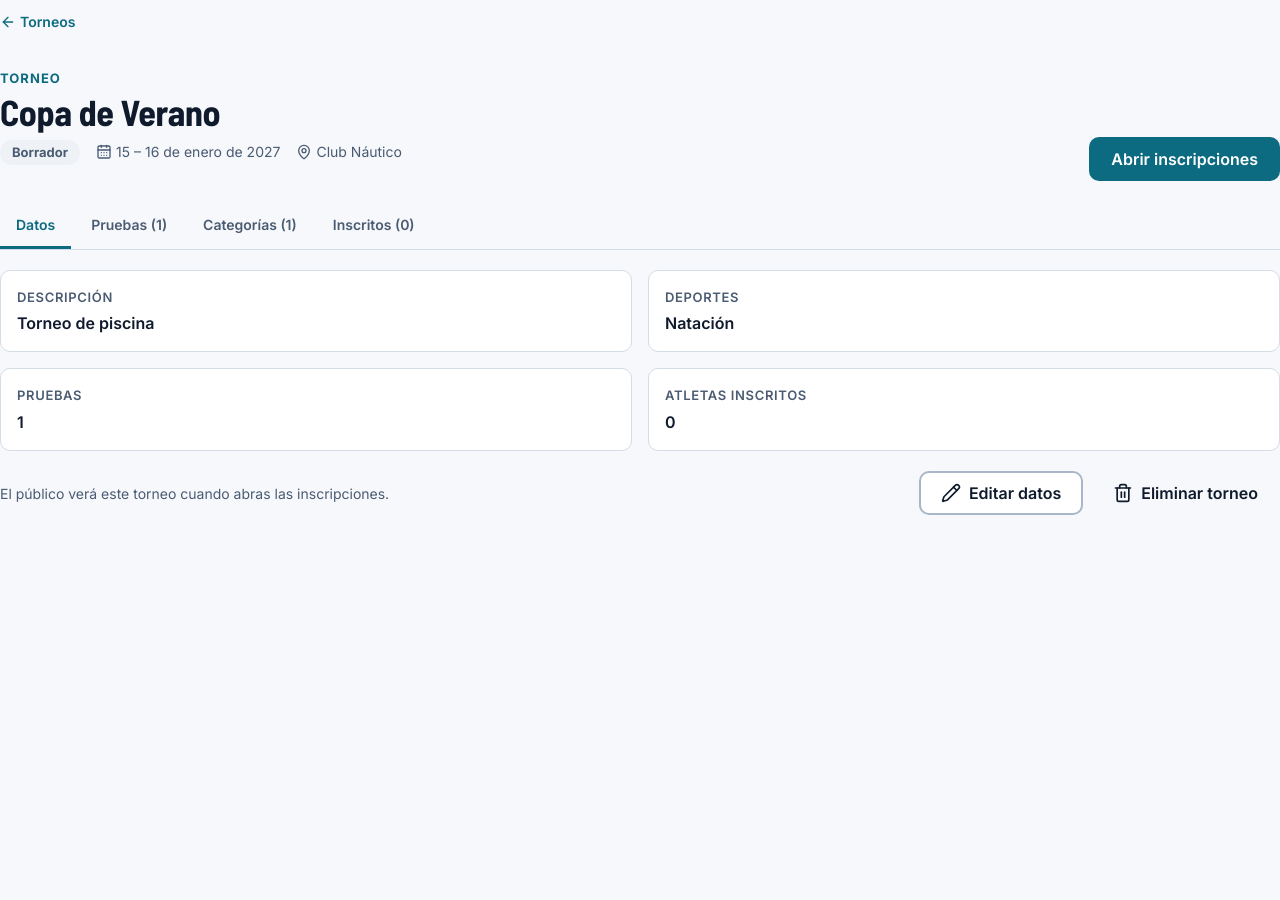
Scenario: TorneoDetallePage › muestra el error del servidor al crear una categoría que se cruza
Expected: the heading "Copa de Verano" is shown, 0,90 -> 220,133
Click the tab "Categorías (1)" at [250, 226], box 187,204 -> 313,248
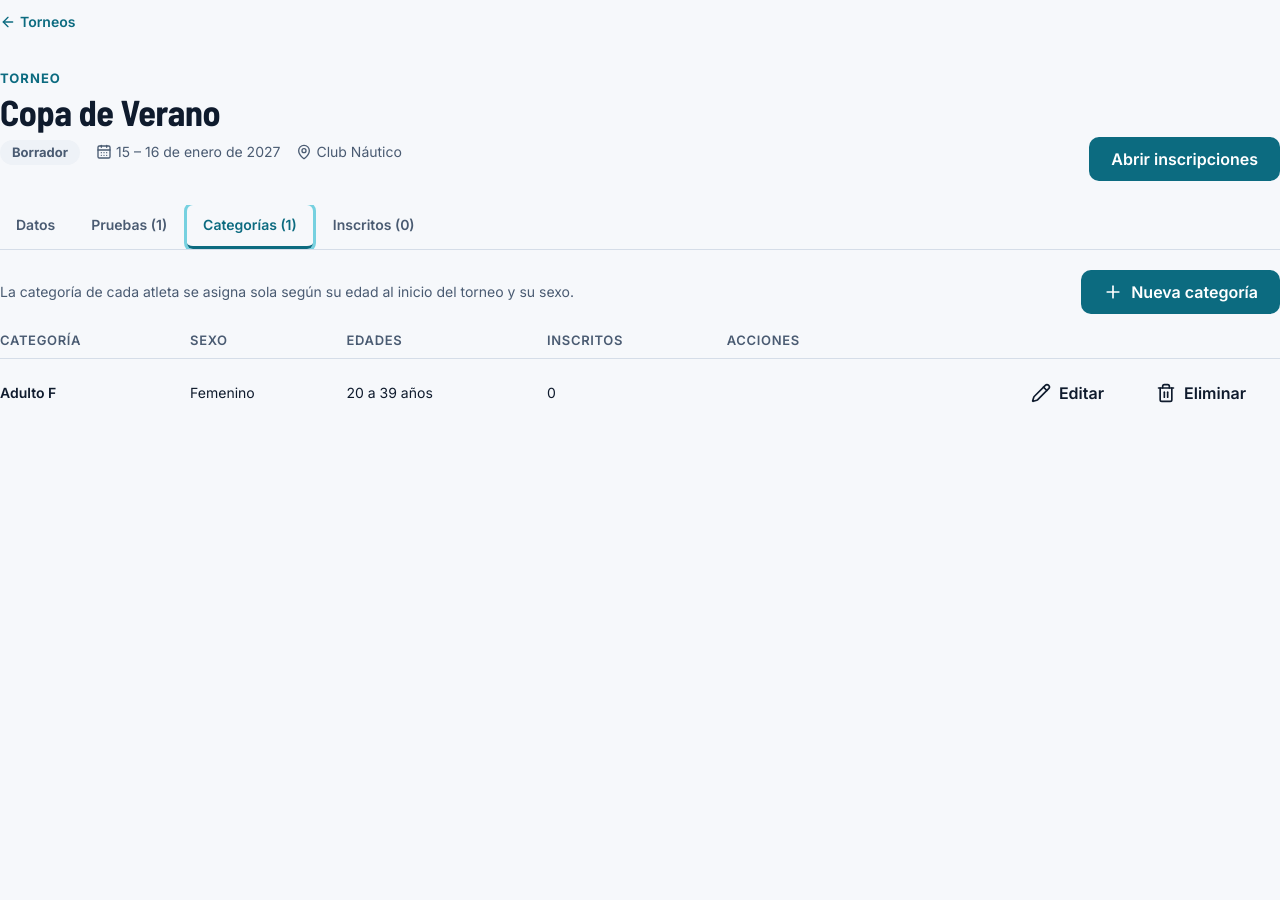
Click the button "Nueva categoría" at [1181, 292], box 1081,270 -> 1279,314
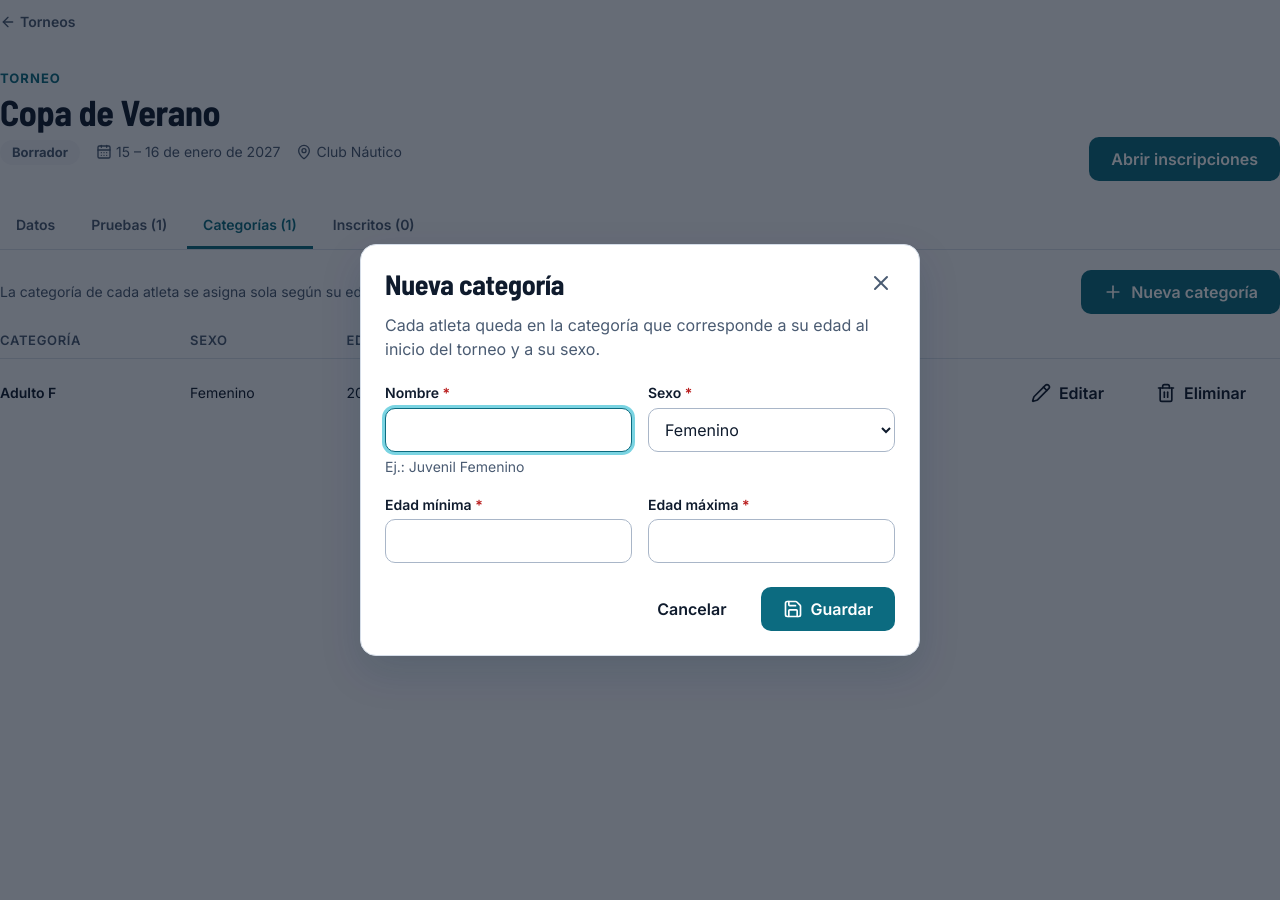
Type "Open" into the field labelled "Nombre *" at [508, 430], box 385,408 -> 632,452
Select "Mixto" in the dropdown labelled "Sexo *" at [772, 430], box 648,408 -> 895,452
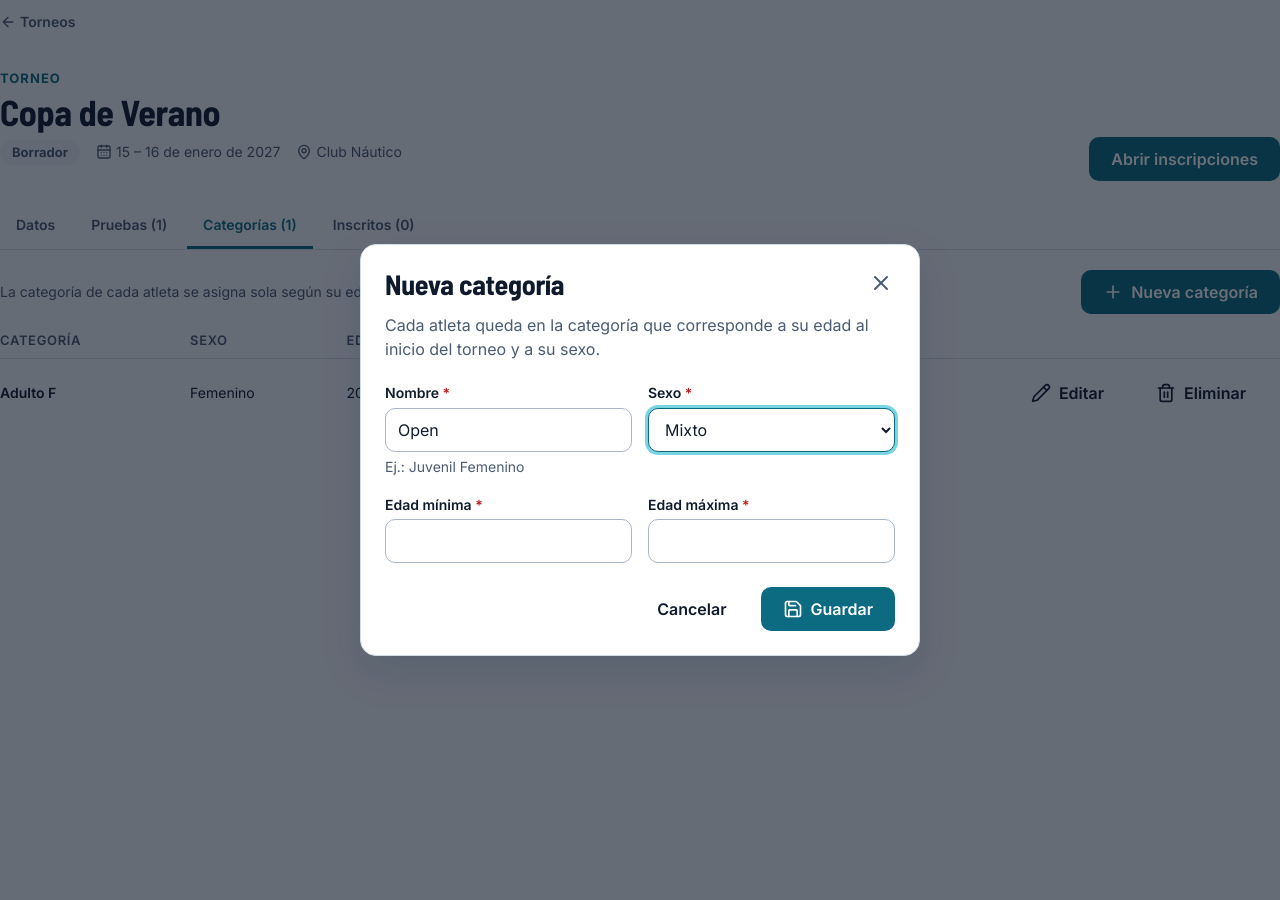
Type "30" into the number field labelled "Edad mínima *" at [508, 541], box 385,519 -> 632,563
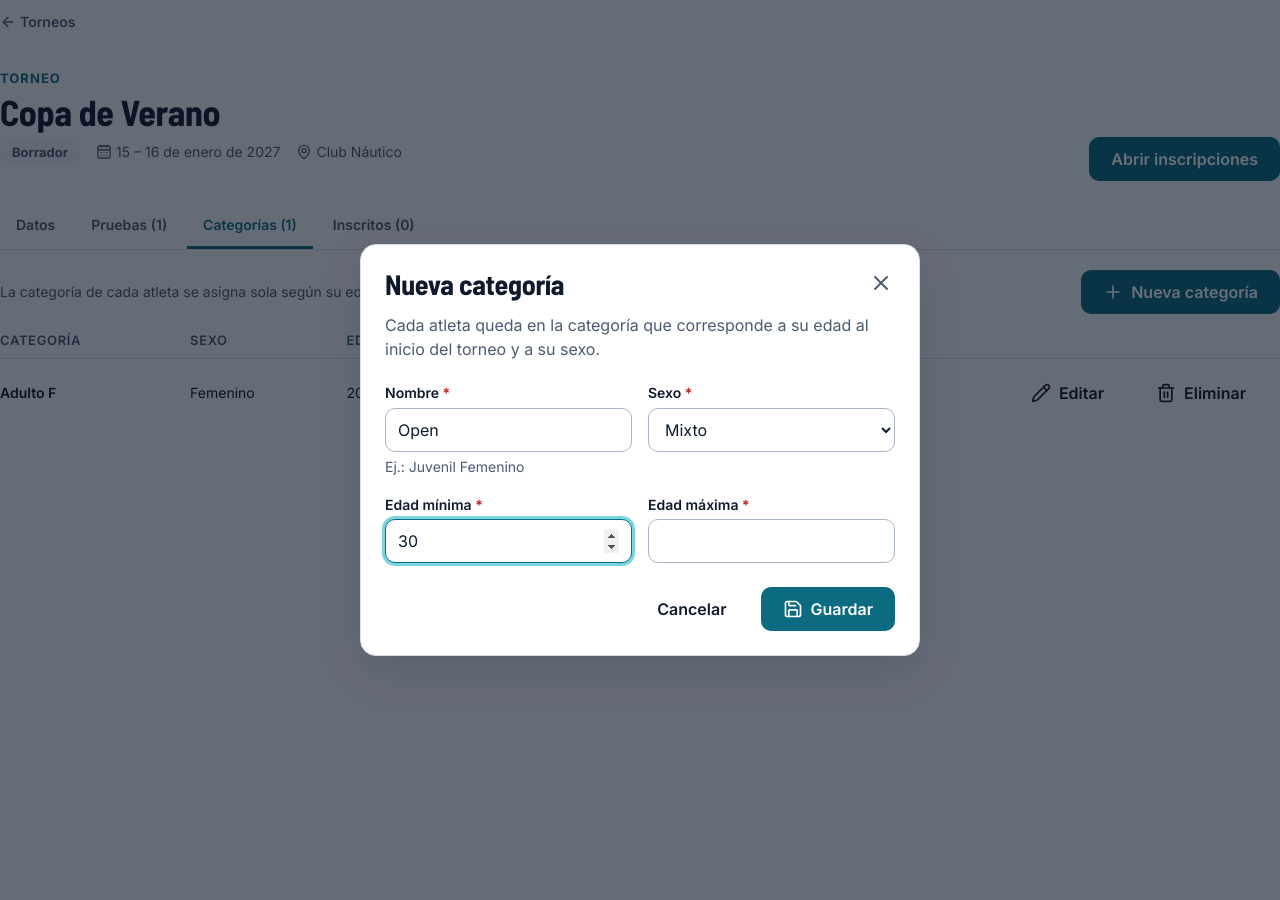
Type "40" into the number field labelled "Edad máxima *" at [772, 541], box 648,519 -> 895,563
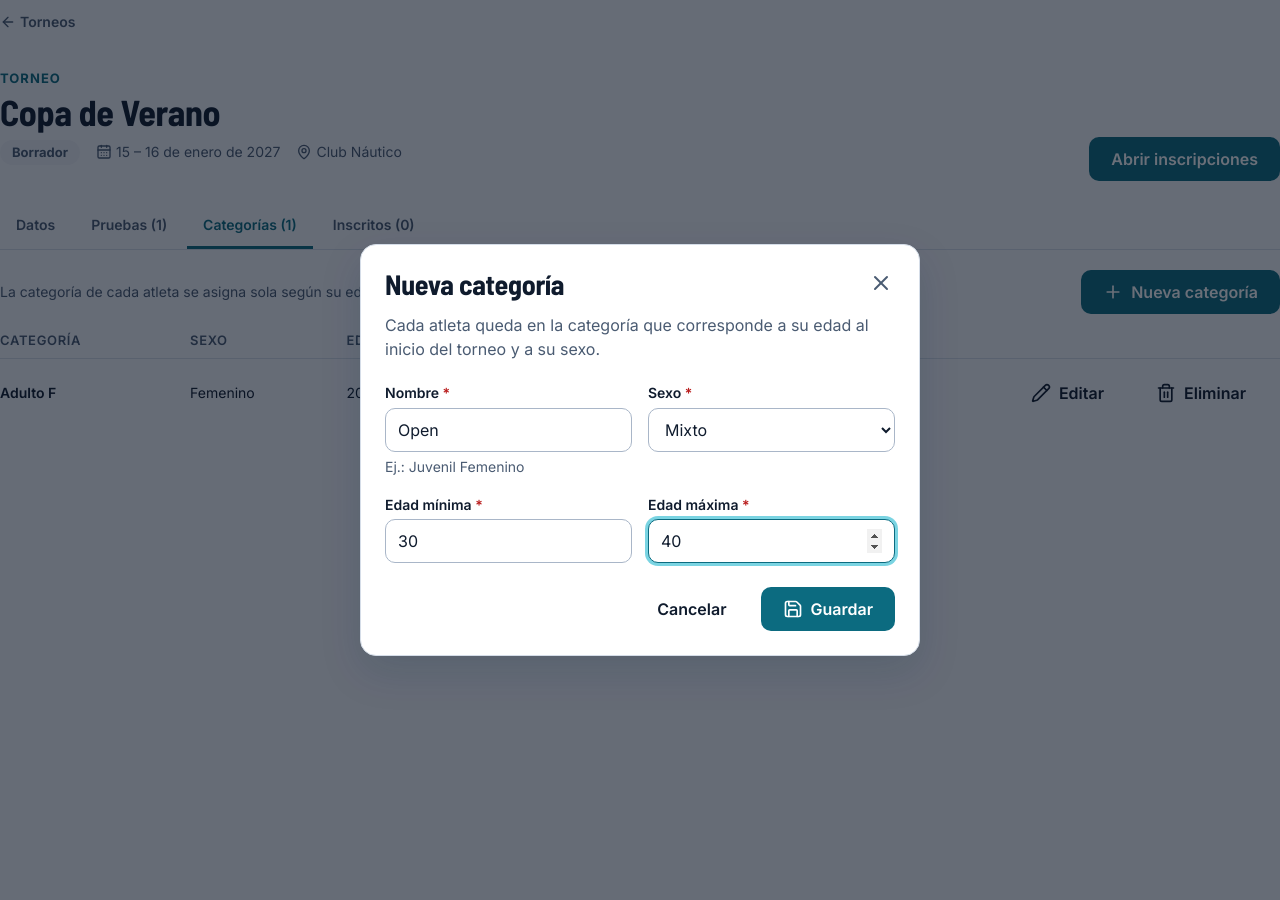
Click the button "Guardar" at [828, 609], box 760,587 -> 895,631
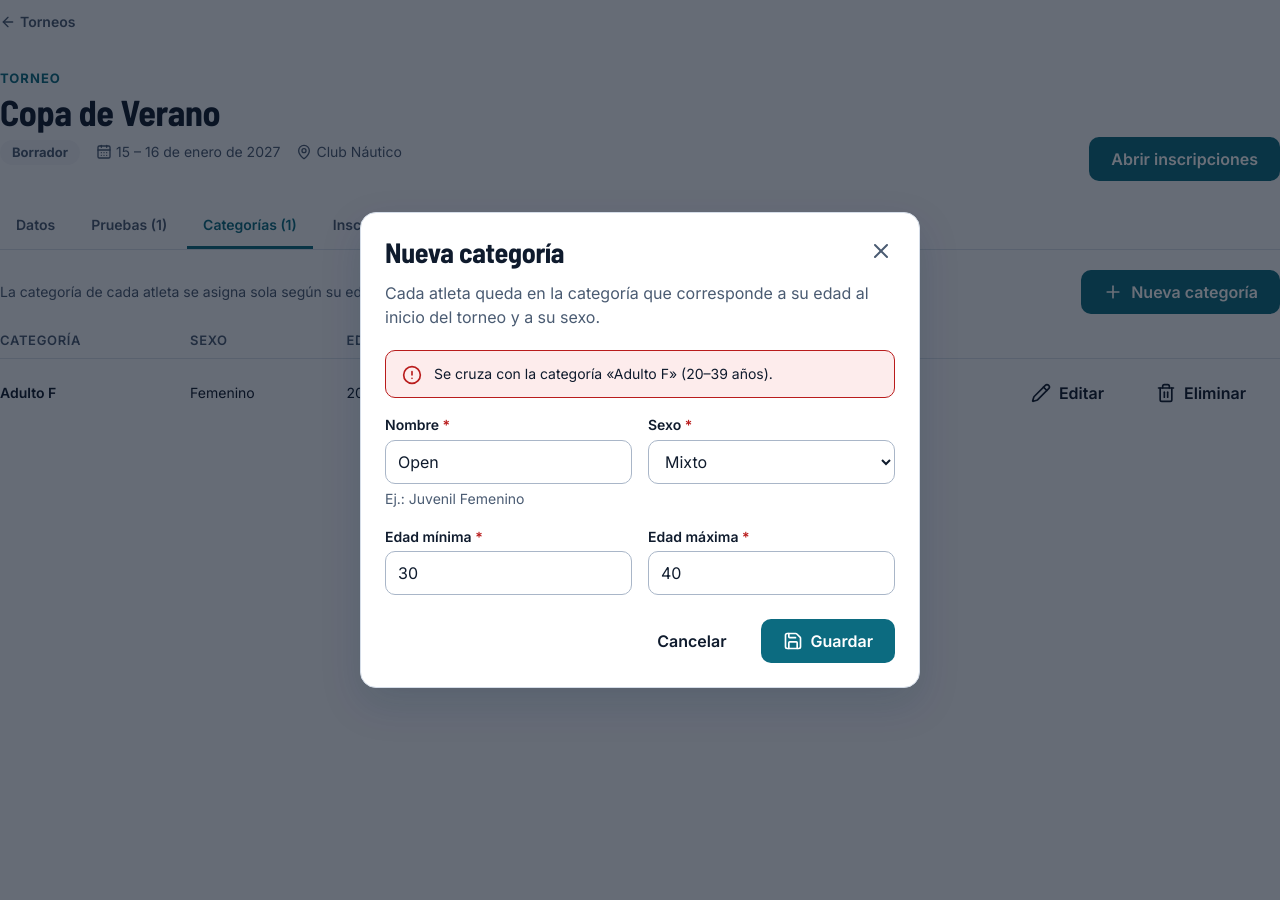
Now the text "Se cruza con la categoría «Adulto F» (20–39 años)." is shown, box 434,365 -> 773,382
